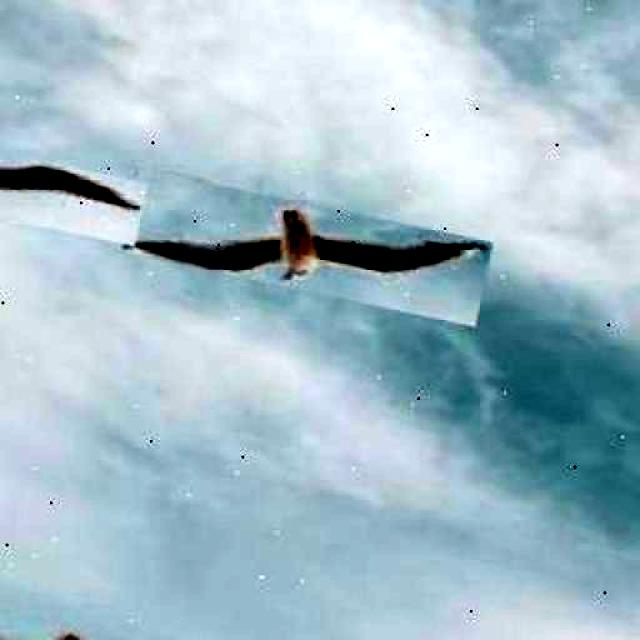airplane: (120, 166, 492, 326), (0, 114, 148, 246), (0, 592, 205, 640)
